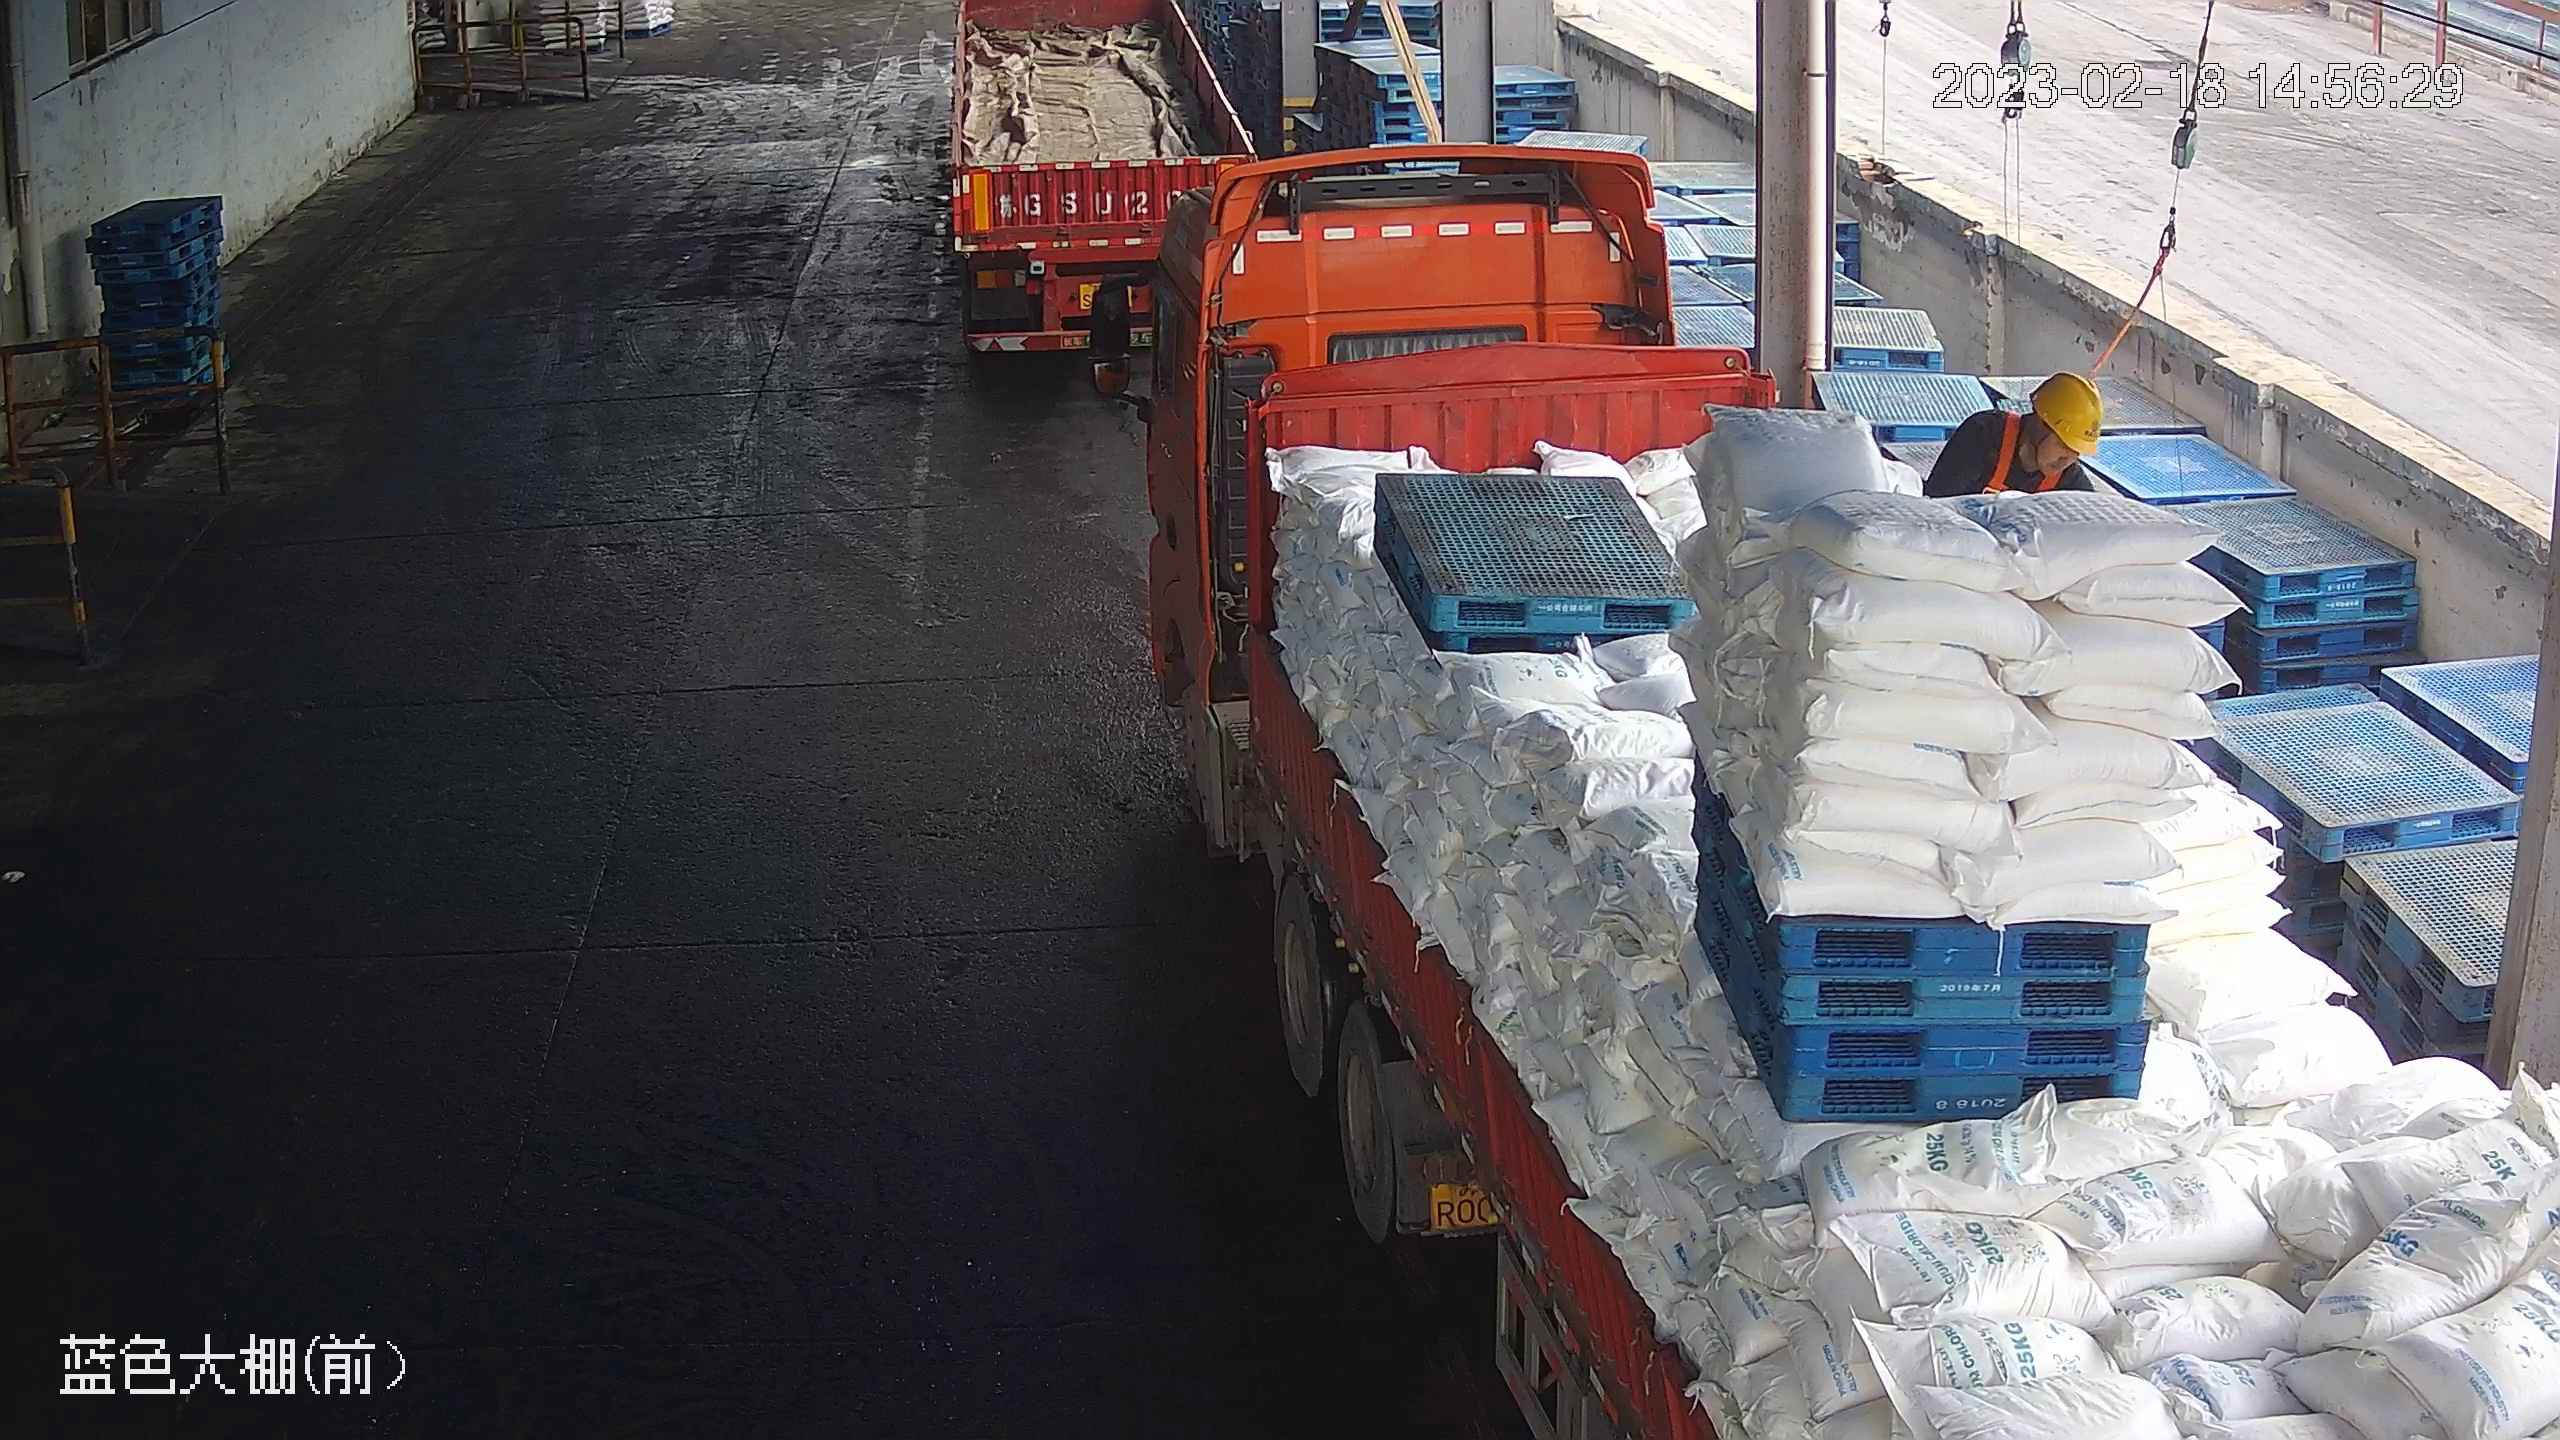belt: (1992, 418, 2065, 500)
head: (1945, 366, 2106, 495)
helmet: (2030, 367, 2106, 460)
truck: (1069, 158, 2556, 1440), (910, 1, 1284, 374)
